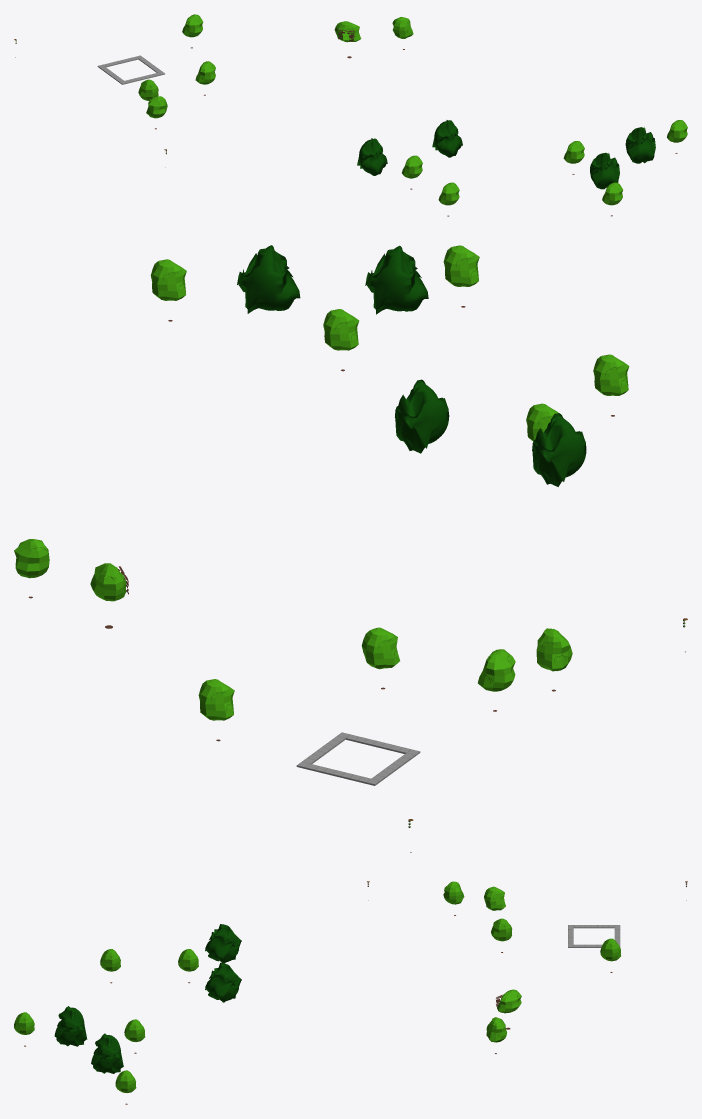
The model's file is object_4_lev3.glb.
3 renders of one model, top to bottom at view 1: azimuth 30°, elevation 25°; view 2: azimuth 150°, elevation 25°; view 3: azimuth 270°, elevation 25°, orthographic. The views are drawn at different scales.
Visible parts, largest first — view 1: object_4_lev3; view 2: object_4_lev3; view 3: object_4_lev3.
Part boxes in pixels (box(x1,y1,x2,y2)): object_4_lev3: box(14, 14, 687, 216); object_4_lev3: box(14, 245, 687, 852); object_4_lev3: box(14, 881, 687, 1104).
Bounding box in the file's own units: 45.63 × 4.91 × 61.68.
Materials: 1 (1 with a texture image).
